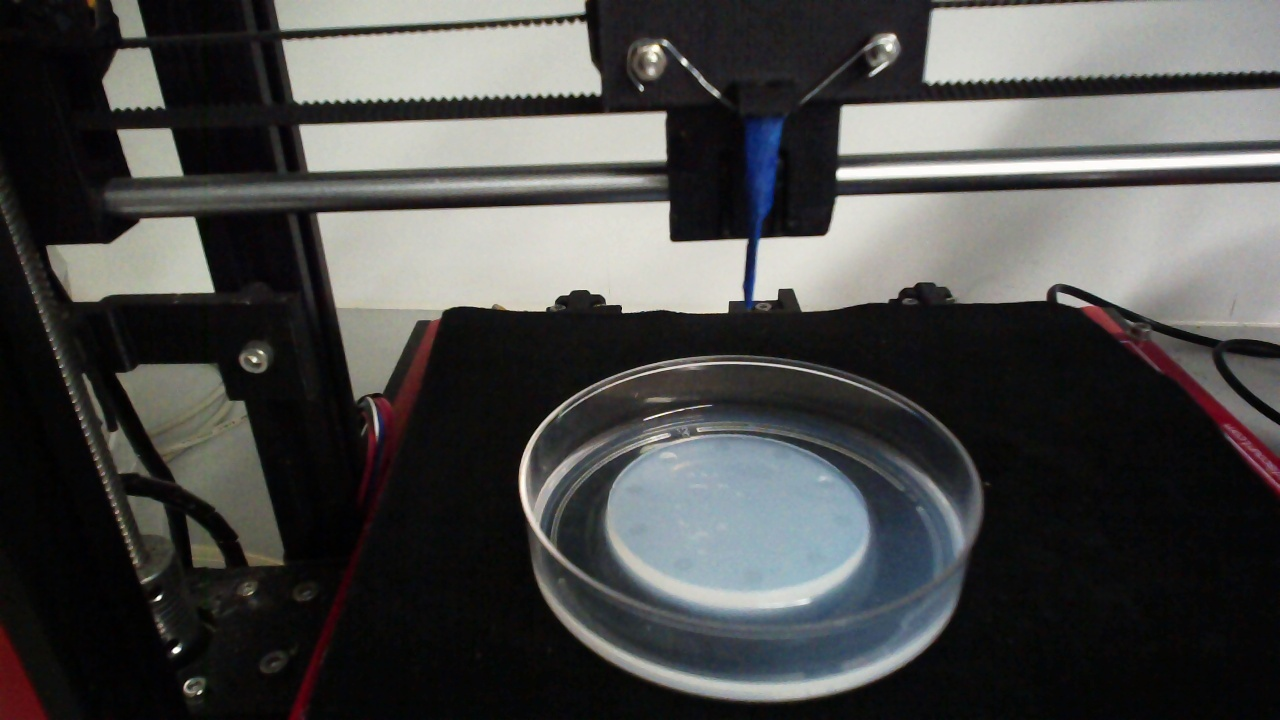groove: (830, 511, 855, 530), (807, 549, 829, 569), (743, 570, 765, 588), (771, 445, 792, 462), (817, 475, 840, 490), (656, 449, 678, 464), (625, 481, 644, 498), (712, 439, 732, 455), (672, 557, 692, 572), (628, 521, 647, 536)
needle: (743, 119, 784, 313)
